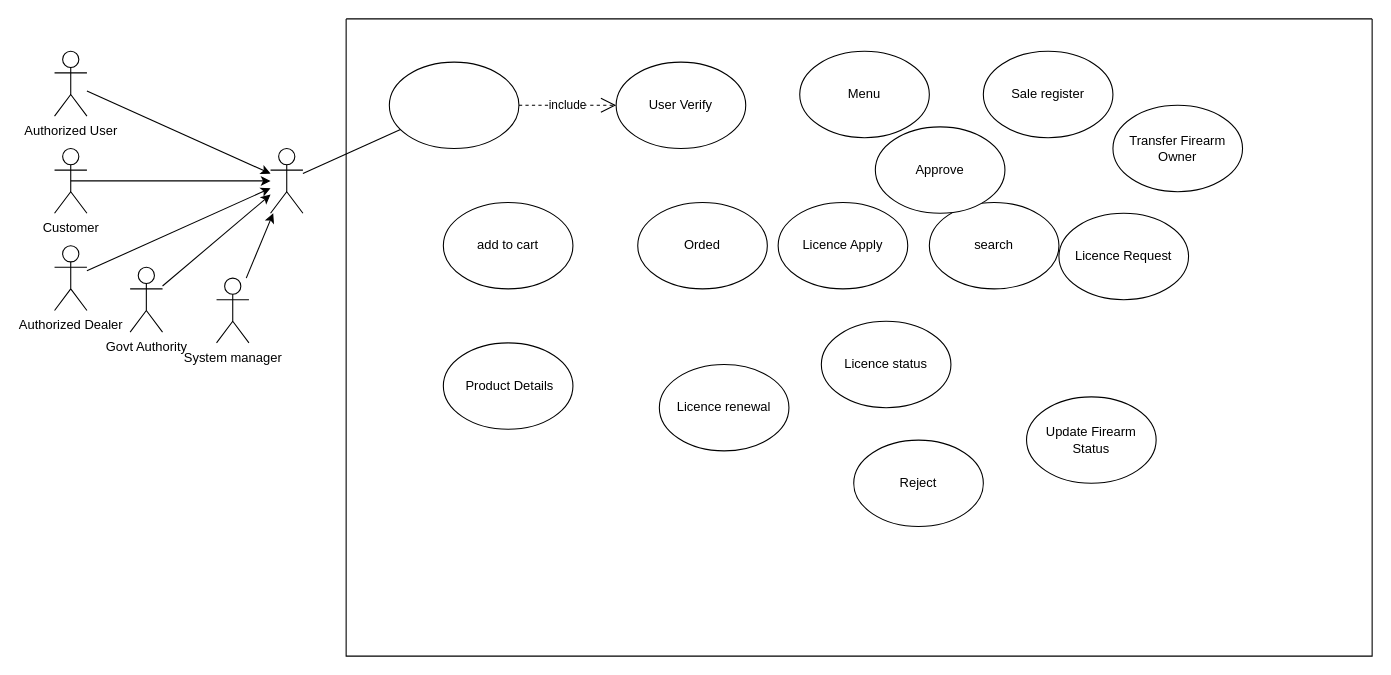
The diagram is 1391 pixels wide and 675 high, and some of its shapes have lost their labels. The centre of each missing label's shape, as x and y in pixels:
Loging: point 453,104
user: point 286,180
